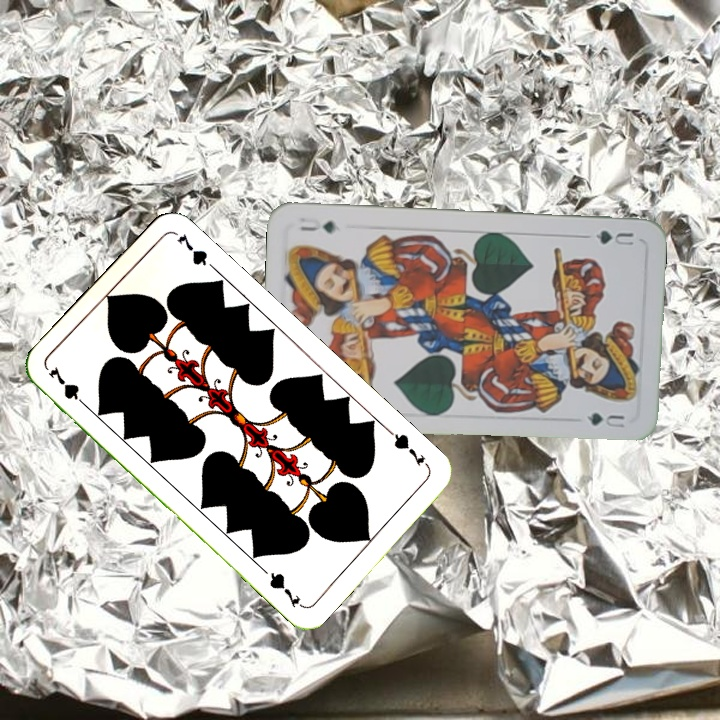G7: (44, 362, 92, 412), (384, 426, 432, 471)
GU: (590, 226, 636, 247)
